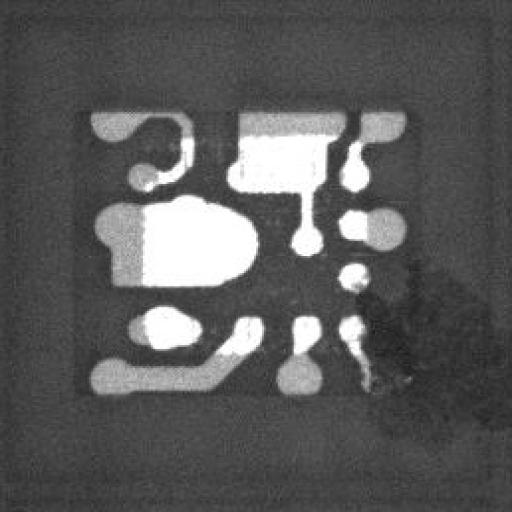DIE_INK: (371, 264, 506, 432)
NO_DIE: (69, 106, 411, 404)
